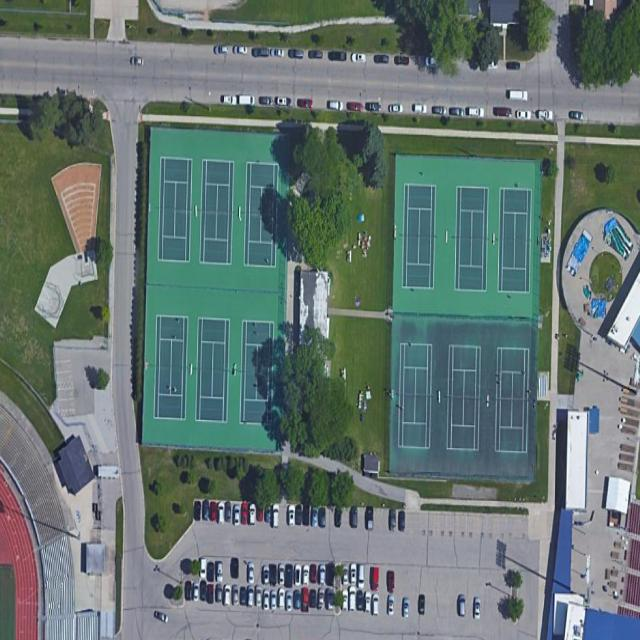small-vehicle: (153, 608, 170, 627), (370, 565, 381, 592), (509, 89, 529, 102), (325, 563, 335, 588), (349, 586, 358, 613), (492, 106, 512, 118), (334, 563, 343, 589), (293, 563, 302, 589), (457, 594, 467, 617), (217, 503, 227, 526), (425, 55, 442, 68), (467, 105, 484, 118), (238, 94, 255, 107), (334, 504, 343, 528), (224, 502, 233, 526), (240, 503, 249, 527), (248, 504, 257, 528), (329, 51, 348, 62), (296, 98, 315, 109), (358, 563, 366, 589), (222, 94, 238, 107), (302, 588, 310, 614), (364, 592, 373, 615), (318, 564, 327, 587), (317, 588, 325, 613), (309, 563, 318, 585), (372, 594, 380, 618), (285, 564, 293, 588), (351, 505, 359, 529), (302, 563, 310, 587), (272, 505, 280, 529), (293, 590, 302, 611), (209, 502, 218, 523), (347, 101, 364, 112), (474, 596, 482, 619), (398, 510, 406, 533), (270, 564, 278, 587), (231, 557, 239, 580), (302, 504, 310, 527), (341, 590, 349, 613), (202, 500, 210, 523), (568, 109, 583, 121), (311, 507, 319, 529), (270, 590, 278, 612), (247, 587, 255, 609), (326, 590, 334, 612), (233, 506, 241, 528), (239, 588, 248, 607), (388, 569, 395, 593), (351, 562, 358, 586), (278, 589, 286, 610), (278, 564, 286, 585), (367, 506, 374, 530), (193, 501, 201, 522), (506, 61, 521, 72), (394, 55, 409, 66), (432, 105, 447, 116), (351, 53, 366, 64), (130, 56, 145, 67), (308, 49, 323, 60), (214, 44, 229, 55), (233, 45, 248, 56), (252, 48, 270, 57), (286, 590, 293, 613), (263, 589, 270, 612), (365, 102, 381, 112), (448, 107, 464, 117), (538, 110, 554, 120), (289, 49, 305, 59), (207, 562, 215, 582), (309, 589, 317, 609), (413, 103, 427, 114), (403, 597, 410, 619), (388, 595, 395, 617), (357, 590, 364, 612), (248, 563, 255, 585), (295, 506, 302, 528), (232, 585, 239, 607), (217, 561, 224, 583), (185, 581, 192, 603), (200, 582, 208, 601), (516, 110, 531, 120), (375, 54, 390, 64), (329, 101, 344, 111), (389, 507, 395, 532), (200, 558, 207, 579), (288, 507, 295, 528), (319, 507, 326, 528), (260, 95, 273, 106), (419, 595, 426, 615), (263, 565, 270, 585), (207, 585, 214, 605), (343, 566, 350, 586), (256, 585, 262, 608), (484, 59, 499, 68), (388, 105, 403, 114), (216, 584, 223, 603), (193, 581, 199, 602), (277, 96, 289, 106), (272, 49, 285, 58)
